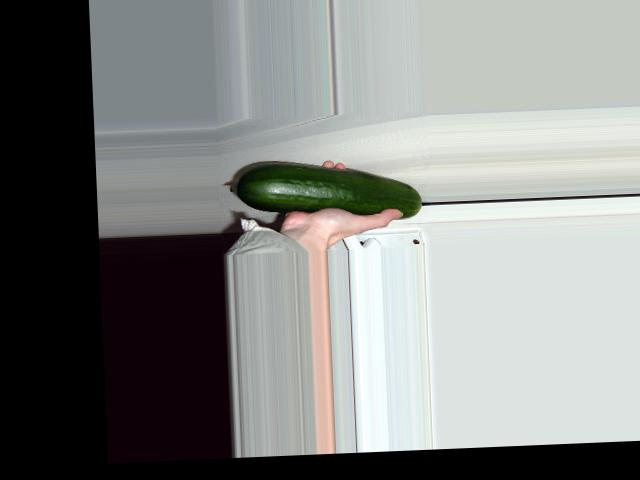cucumber: (228, 154, 422, 225)
